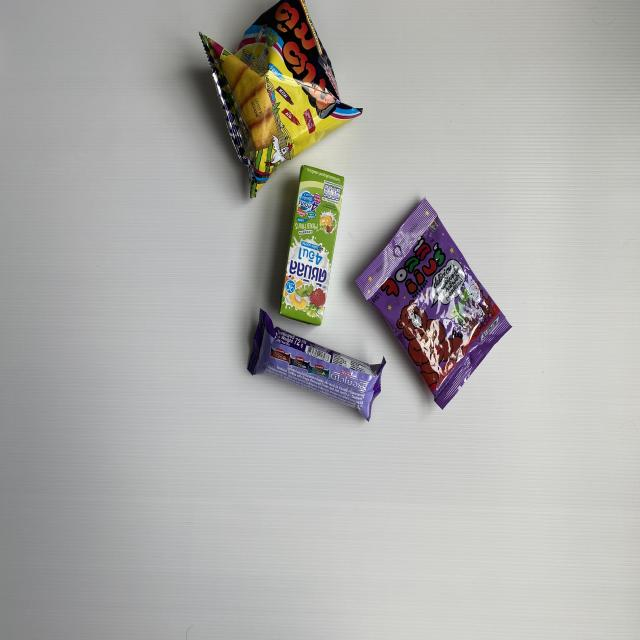candy: (356, 198, 513, 410)
cracker: (246, 309, 386, 422)
milk: (280, 165, 344, 326)
snack: (198, 1, 364, 198)
